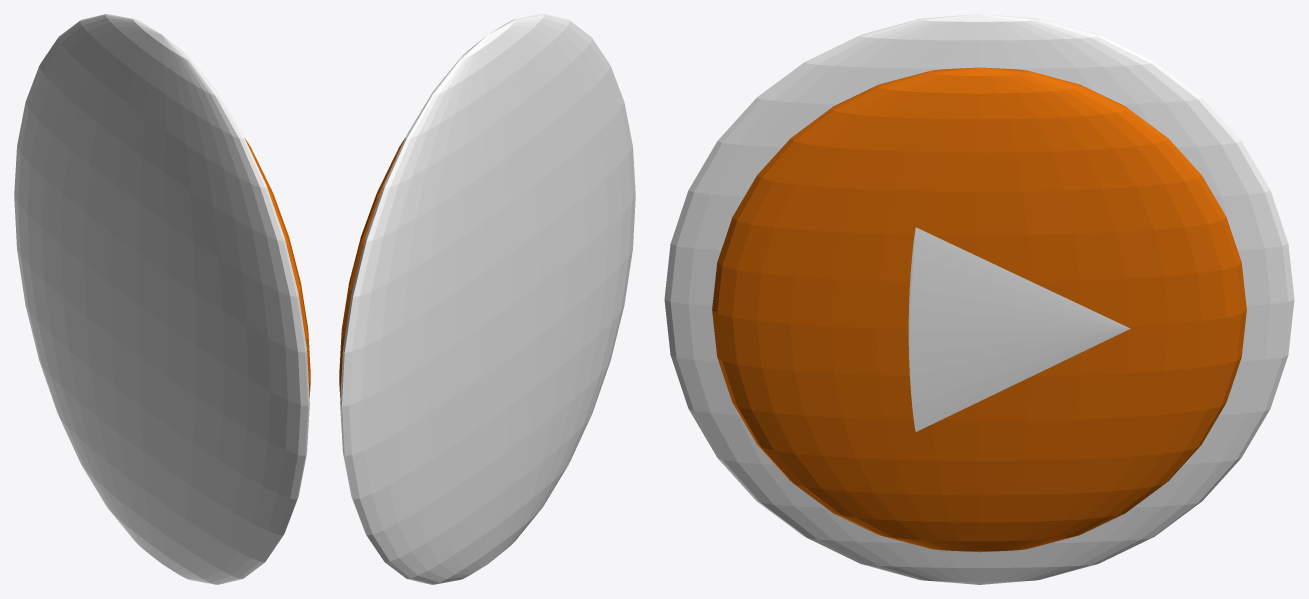
The model's file is botao_direito.gltf.
3 renders of one model, left to right at view 1: azimuth 30°, elevation 25°; view 2: azimuth 150°, elevation 25°; view 3: azimuth 270°, elevation 25°, orthographic. The views are drawn at different scales.
Visible parts, largest first — view 1: Sphere.001; view 2: Sphere.001; view 3: Sphere.001, Cone.
Part boxes in pixels (box(x1,y1,x2,y2)): Sphere.001: box(14, 14, 310, 584); Sphere.001: box(339, 14, 635, 584); Sphere.001: box(664, 14, 1294, 584); Cone: box(908, 227, 1130, 431).
Size of the model in its own units: 0.3341 by 2 by 2.
